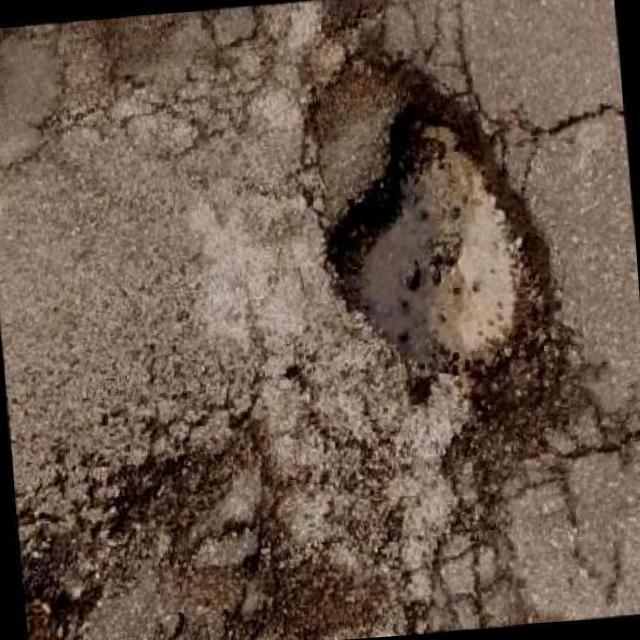Pothole: (297, 49, 577, 497), (20, 407, 385, 640)
